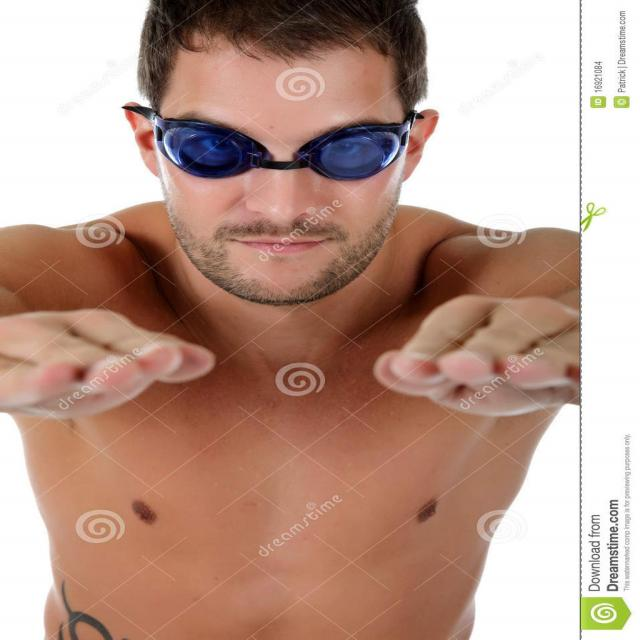nomask: (161, 55, 404, 300)
